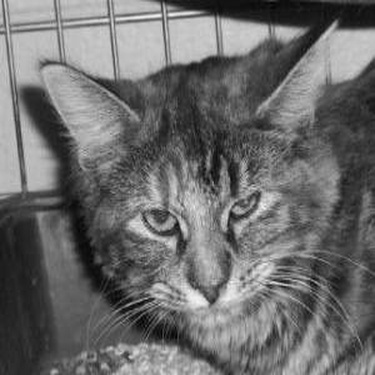cat: (36, 15, 368, 371)
